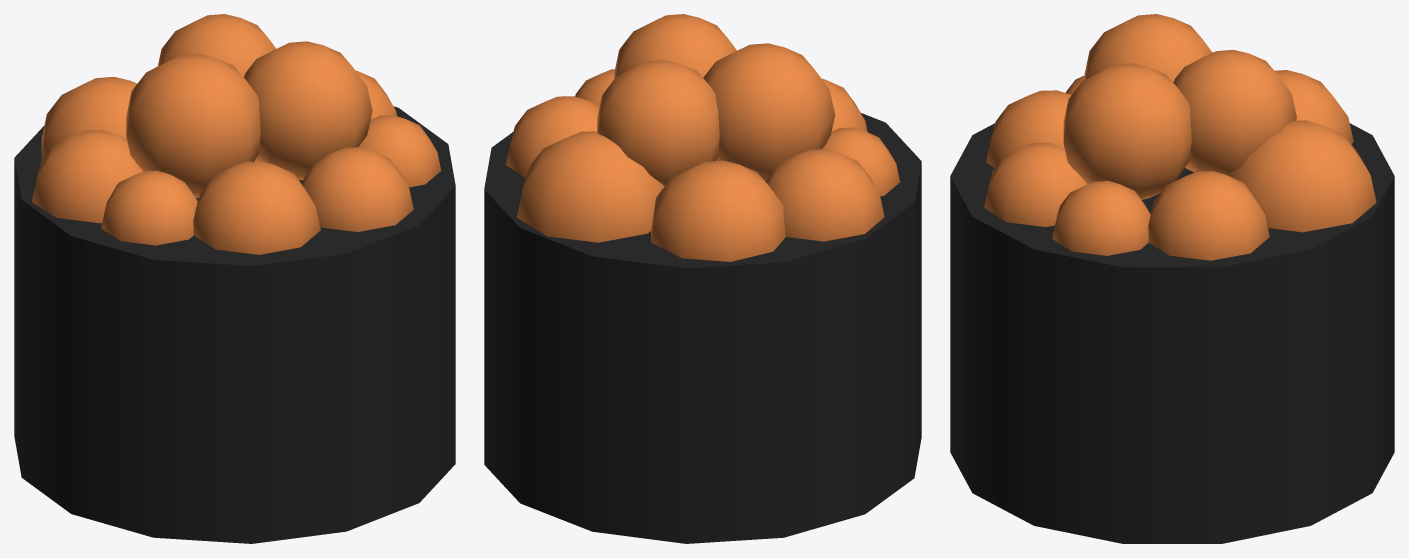
The model's file is quaternius-sushi-restaurant-food-seaurchinroll.glb.
3 renders of one model, left to right at view 1: azimuth 30°, elevation 25°; view 2: azimuth 150°, elevation 25°; view 3: azimuth 270°, elevation 25°, orthographic.
Visible parts, largest first — view 1: Food_SeaUrchinRoll; view 2: Food_SeaUrchinRoll; view 3: Food_SeaUrchinRoll.
Boxes of the visible parts, x1,y1,x2,y2 form: Food_SeaUrchinRoll: (14, 14, 455, 543); Food_SeaUrchinRoll: (484, 14, 921, 543); Food_SeaUrchinRoll: (950, 14, 1394, 543).
Bounding box in the file's own units: 0.4928 × 0.5114 × 0.5055.
1 material, 1 textured.
